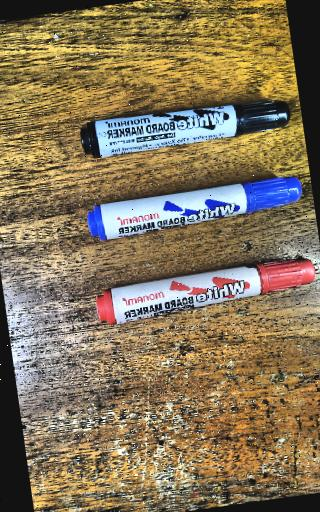marcador azul: (88, 176, 302, 240)
marcador negro: (81, 101, 289, 157)
marcador rojo: (97, 258, 315, 324)
